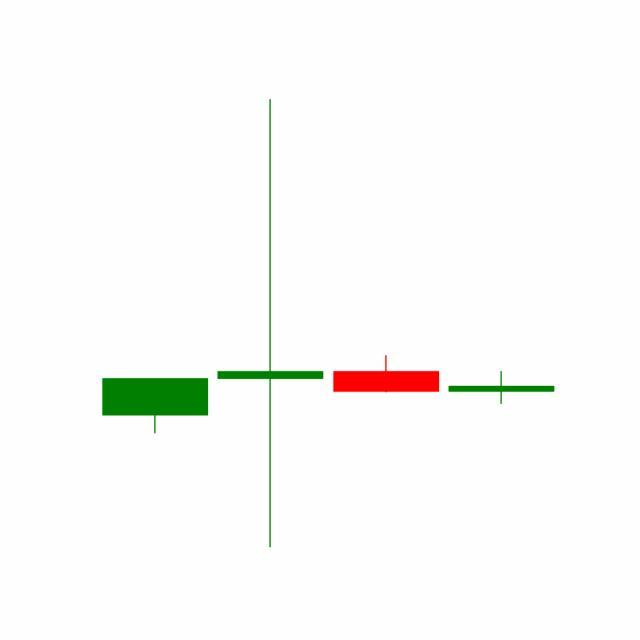Spinning Top: (444, 372, 560, 406)
